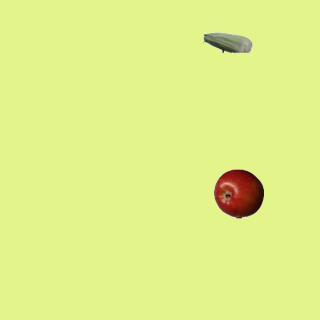Apple Braeburn: (213, 168, 263, 218)
Corn Husk: (202, 17, 252, 67)
